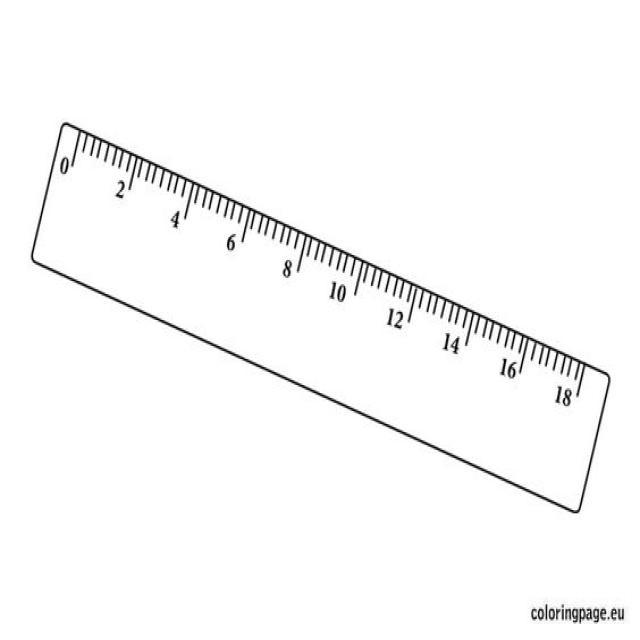Ruler: (21, 108, 623, 525)
